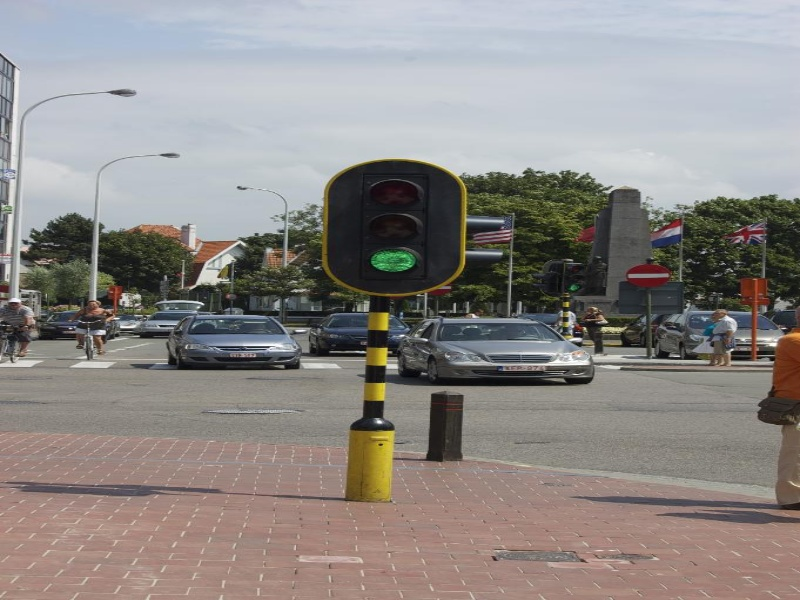green_light: (362, 241, 427, 279)
